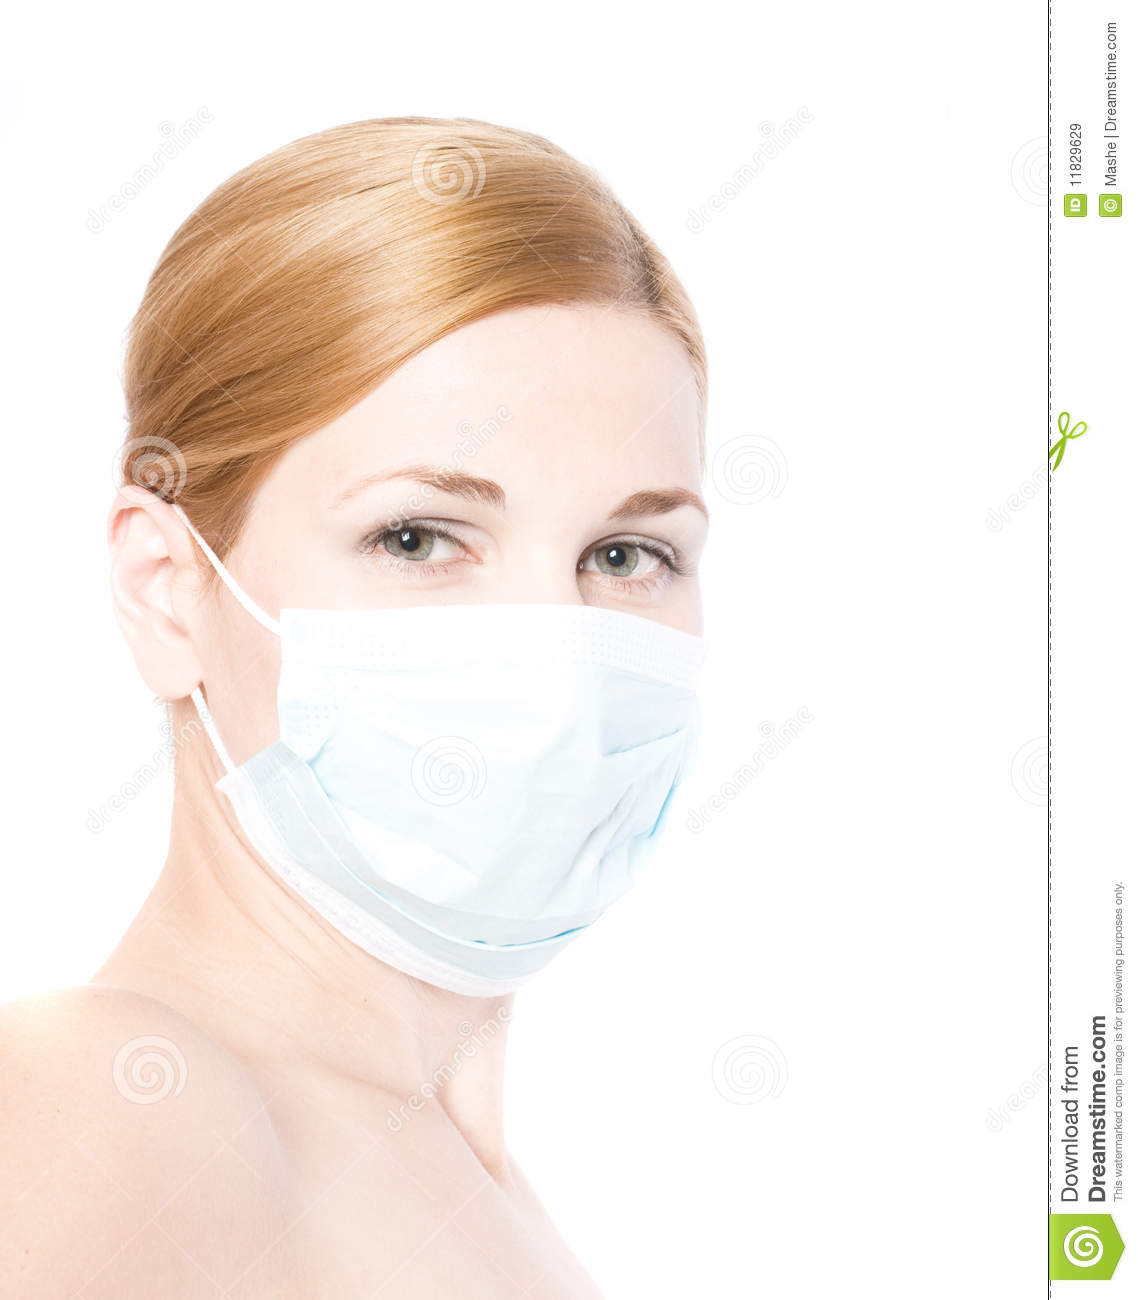mask: (211, 598, 717, 999)
